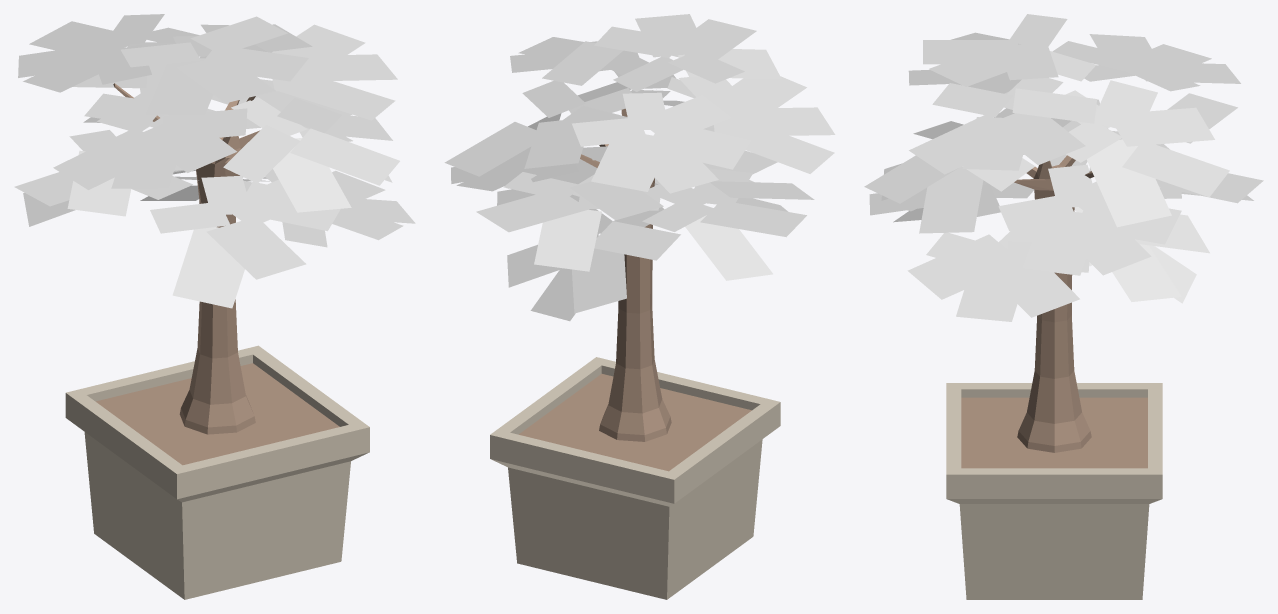
File: scene_tree0.fbx
3 views of the same model, side by side, from view 1: azimuth 30°, elevation 25°; view 2: azimuth 150°, elevation 25°; view 3: azimuth 270°, elevation 25° (orthographic). The views are drawn at different scales.
Visible parts, largest first — view 1: scene_tree0; view 2: scene_tree0; view 3: scene_tree0.
Part boxes in pixels (left/top/right/bottom): scene_tree0: left=14, top=14, right=415, bottom=599; scene_tree0: left=444, top=14, right=835, bottom=599; scene_tree0: left=864, top=14, right=1263, bottom=599.
Bounding box in the file's own units: 62.72 × 88.59 × 63.56.
